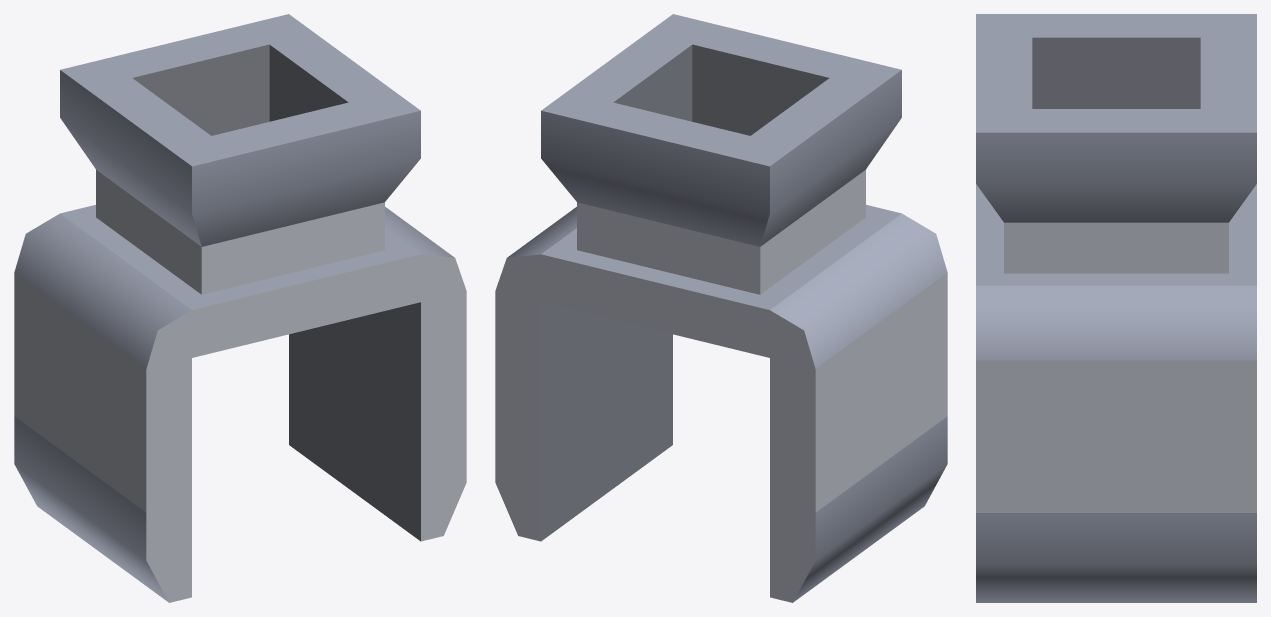
File: cover-hopper.fbx
3 views of the same model, side by side, from view 1: azimuth 30°, elevation 25°; view 2: azimuth 150°, elevation 25°; view 3: azimuth 270°, elevation 25° (orthographic). The views are drawn at different scales.
Visible parts, largest first — view 1: cover-hopper; view 2: cover-hopper; view 3: cover-hopper.
Part boxes in pixels (x1=…): cover-hopper: x1=14, y1=14, x2=466, y2=602; cover-hopper: x1=495, y1=14, x2=947, y2=602; cover-hopper: x1=976, y1=14, x2=1256, y2=602.
Bounding box in the file's own units: 140 × 180 × 100.
